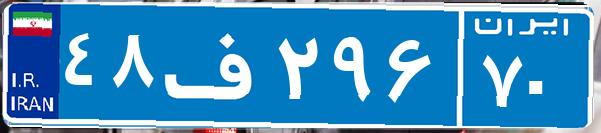0: (525, 38, 570, 115)
2: (273, 28, 330, 110)
4: (57, 26, 110, 107)
6: (385, 28, 445, 110)
7: (475, 38, 525, 113)
8: (110, 28, 158, 105)
9: (330, 28, 385, 110)
ف: (158, 15, 273, 115)
